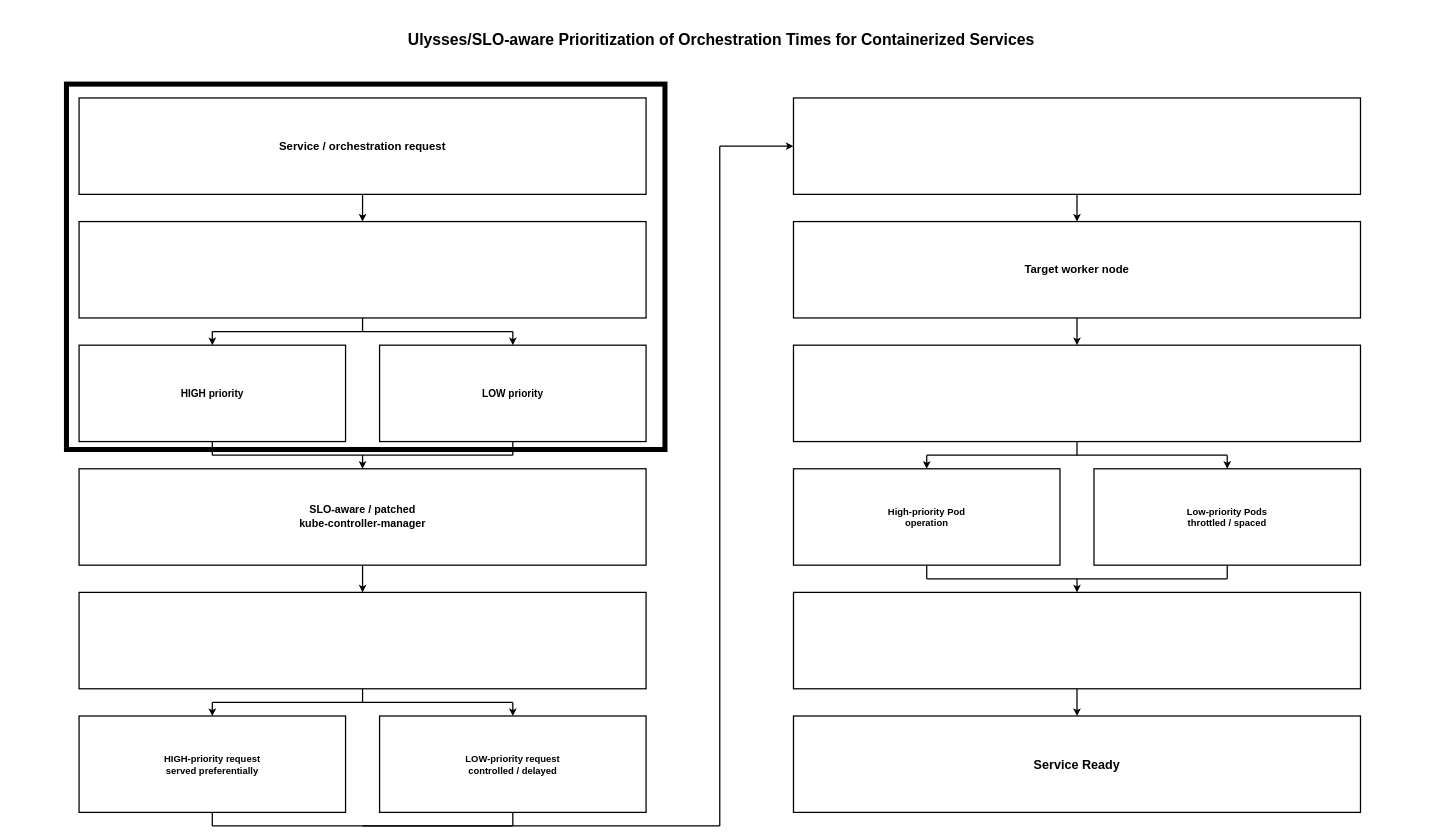
Some shapes in this 1443 by 838 pixel diagram are drawn without their labels. The centre of each missing label's shape, as x and y in pixels:
Container starts: the point at 1077,640
Multi-priority queues: the point at 362,640
Priority information: the point at 362,269
Scheduler: the point at 1077,146
SLO-aware Kubelet: the point at 1077,393
